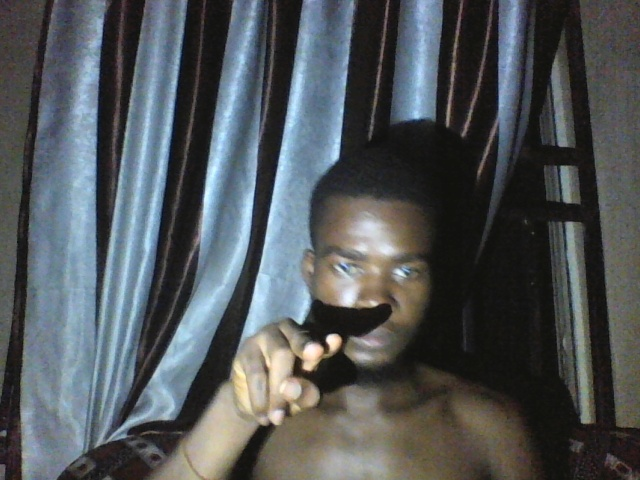no: (225, 311, 348, 435)
